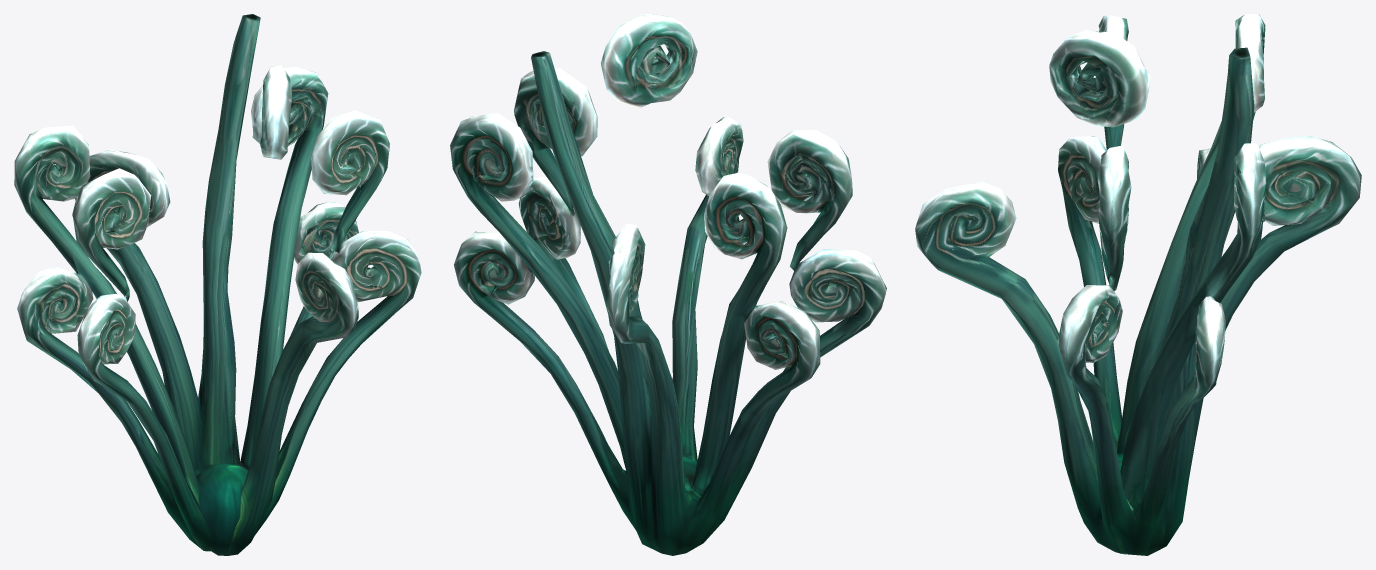
3 renders of one model, left to right at view 1: azimuth 30°, elevation 25°; view 2: azimuth 150°, elevation 25°; view 3: azimuth 270°, elevation 25°, orthographic. The views are drawn at different scales.
Parts seen in each view (by area): view 1: Mesh_0; view 2: Mesh_0; view 3: Mesh_0.
Part boxes in pixels (x1,y1,x2,y2): Mesh_0: (14,14,421,555); Mesh_0: (450,14,886,555); Mesh_0: (915,14,1361,555).
Bounding box in the file's own units: 1.43 × 1.91 × 1.43.
1 material, 1 textured.
